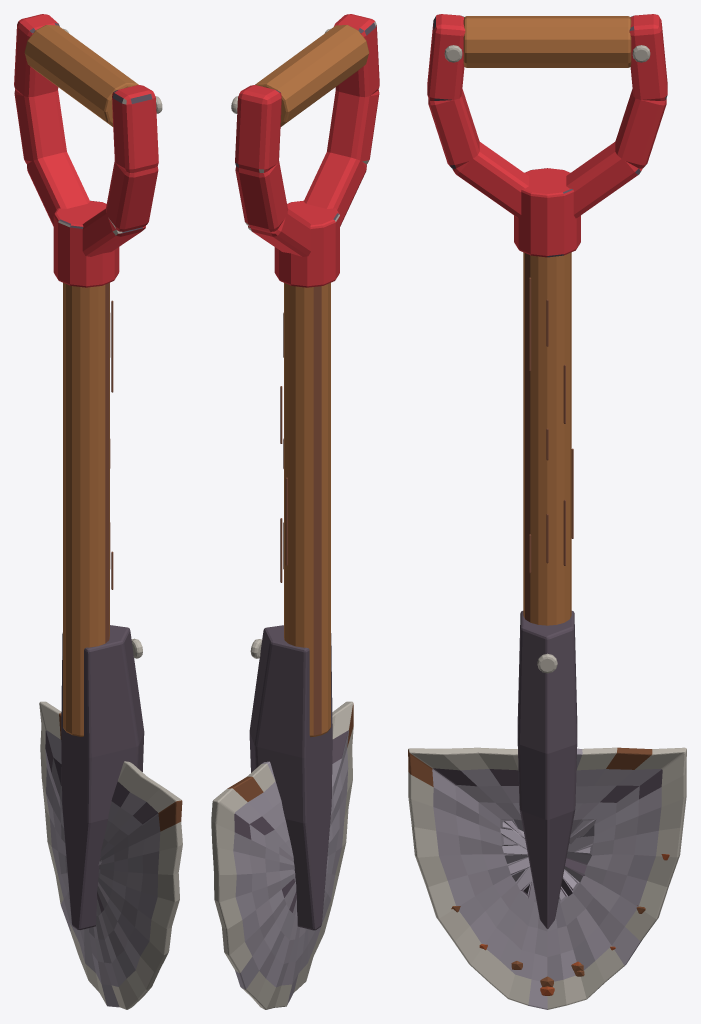
The model's file is wpn.shovel.glb.
The picture shows the model from 3 angles, left to right: view 1: azimuth 30°, elevation 25°; view 2: azimuth 150°, elevation 25°; view 3: azimuth 270°, elevation 25°; orthographic projection. The views are drawn at different scales.
Visible parts, largest first — view 1: body; view 2: body; view 3: body.
Part boxes in pixels (x1,y1,x2,y2): body: (14,14,182,1009); body: (211,14,379,1009); body: (408,14,686,1009).
Bounding box in the file's own units: 0.1089 × 1.16 × 0.2996.
